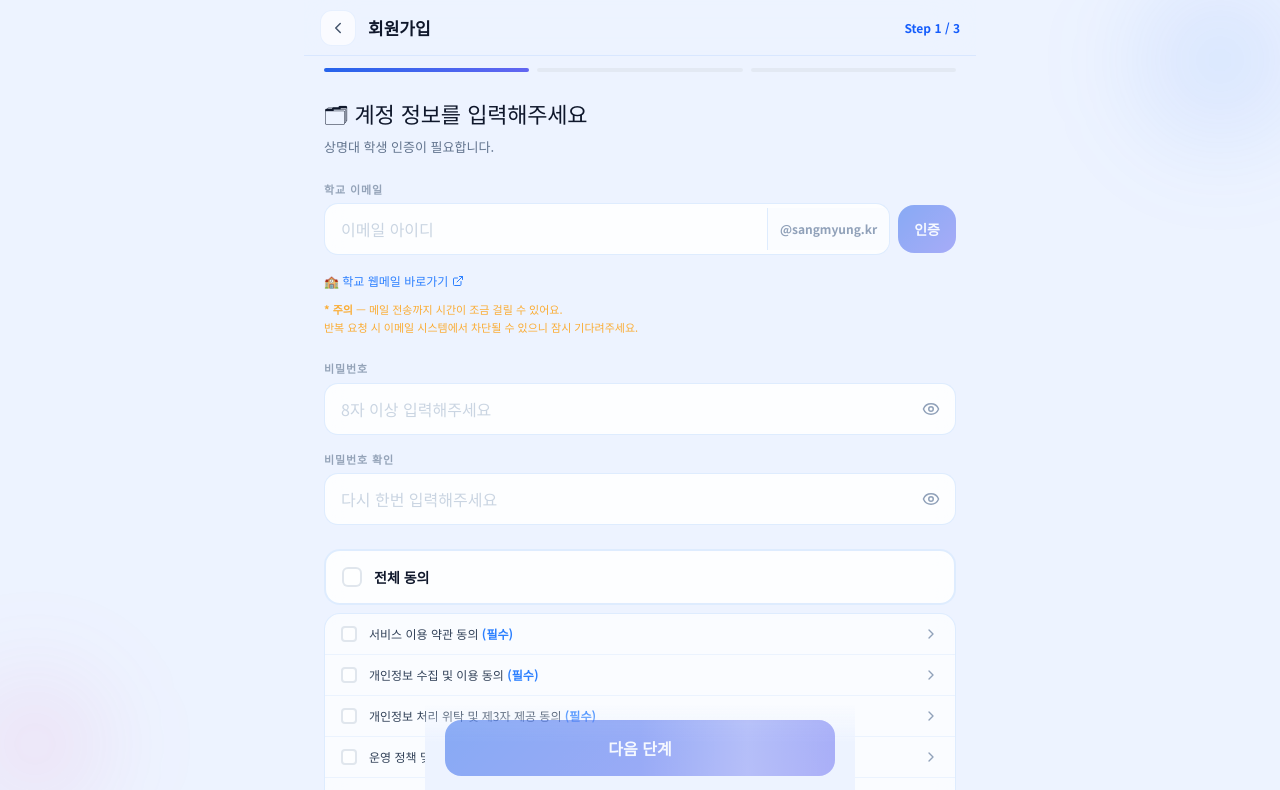
Test case: SignupPage › 인증 코드 발송 후 코드 입력 필드 표시
In the field with placeholder "이메일 아이디": (546, 229) [325,204,767,254], type "testuser"
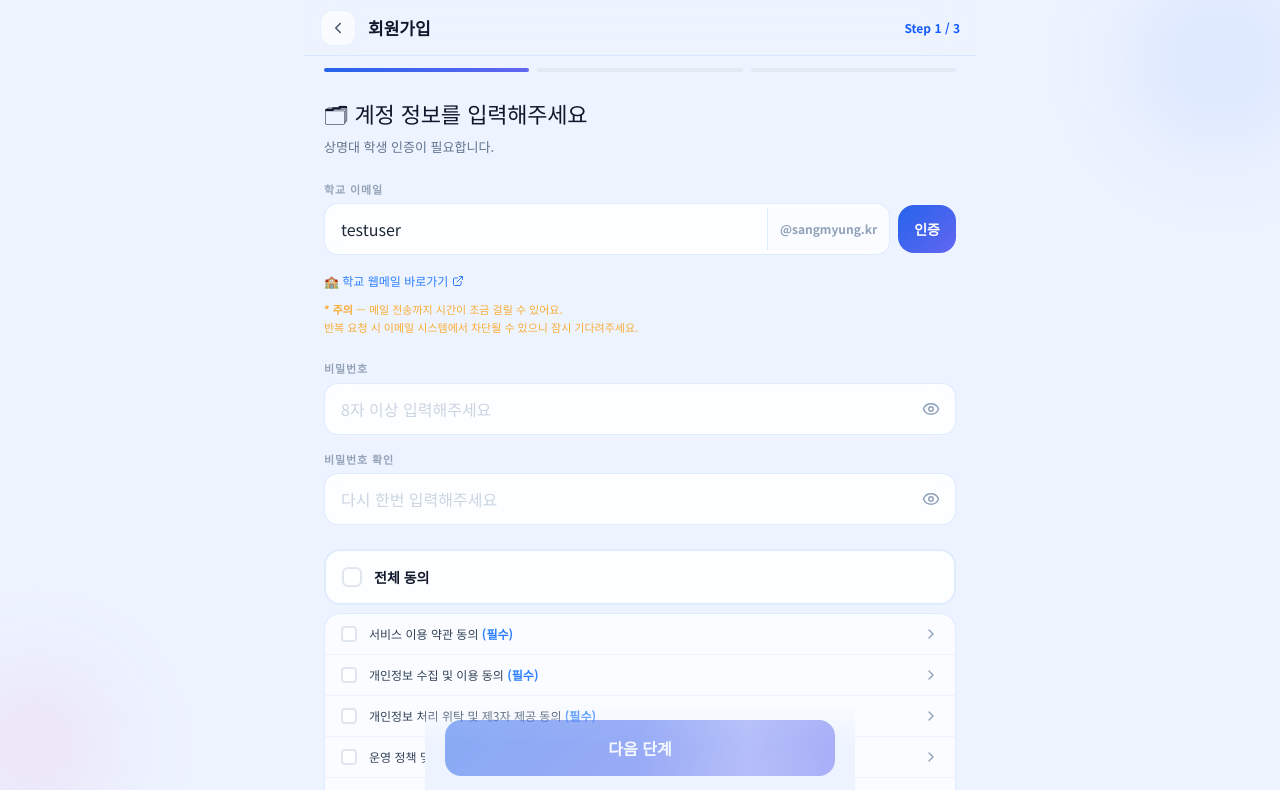
Click the button "인증": (927, 229) [898,205,956,253]
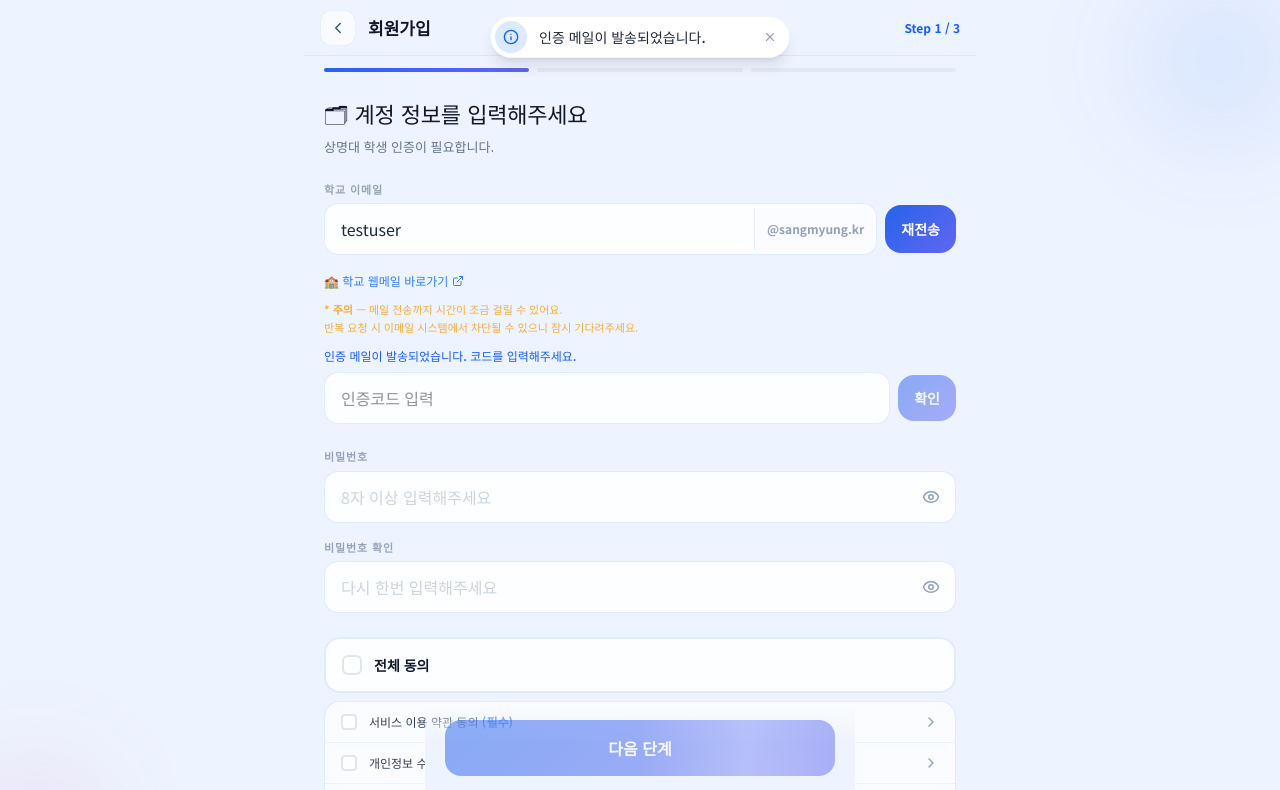
Expected: the field with placeholder "인증코드 입력" is shown, [324,372,890,424]
